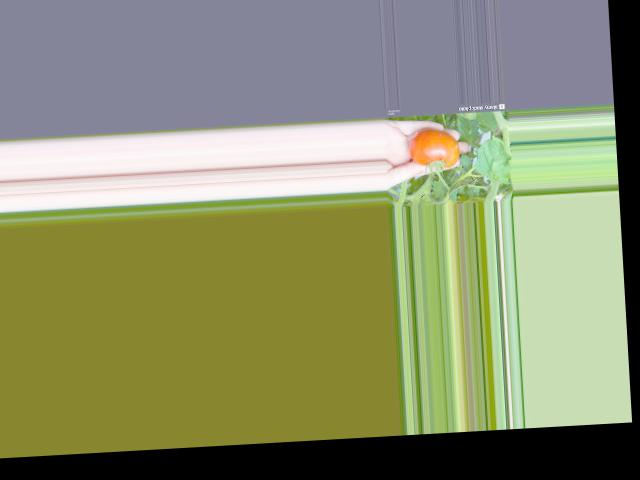tomato: (406, 127, 459, 169)
